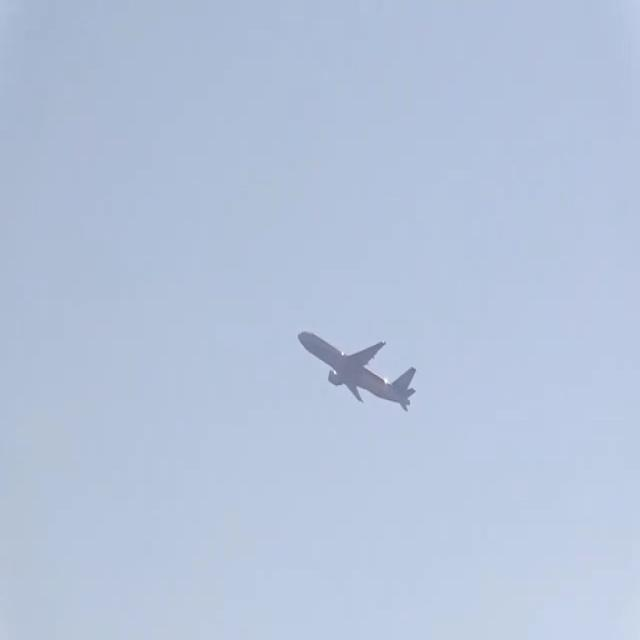AirPlane: (284, 308, 425, 426)
